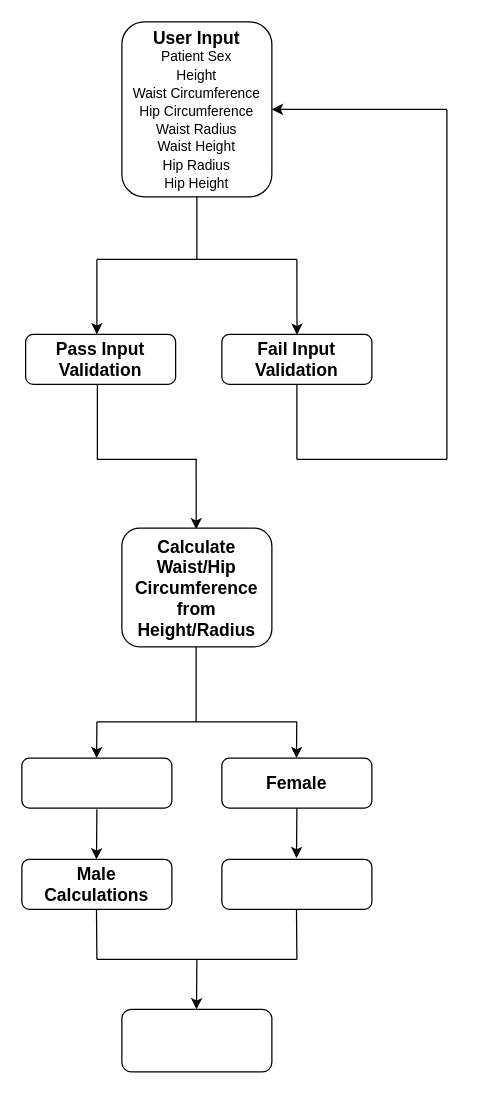
Image size: 479x1094. Some labels were removed from this diagram. Here are the shapes that lost their labels. From the top down, the centre of each, then its label:
At point (96, 782): "Male".
At point (296, 883): "Female Calculations".
At point (196, 1040): "Output Patients Weight using Methods 2/3".
